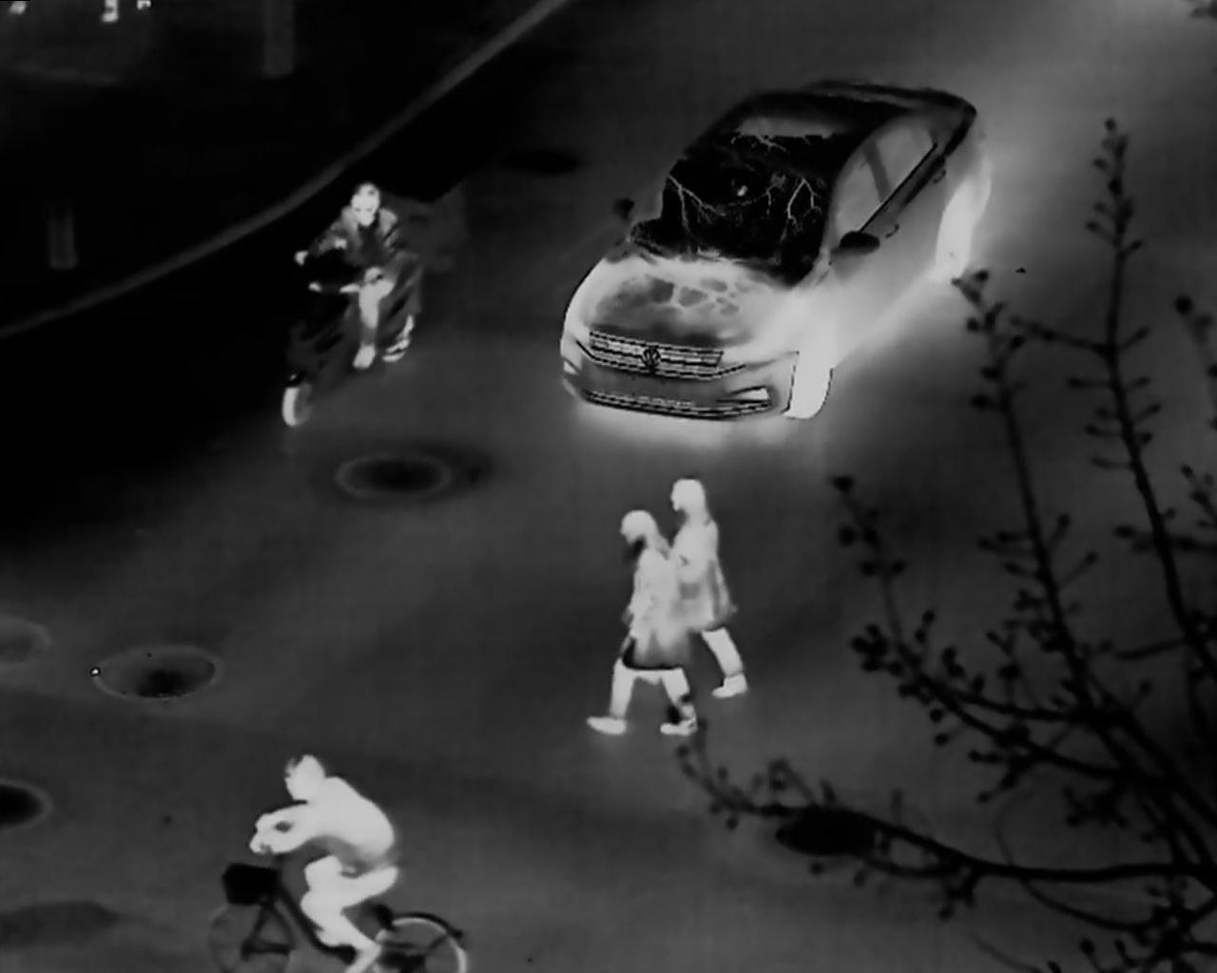person: (245, 754, 400, 973), (579, 505, 701, 737), (290, 180, 410, 375), (667, 477, 748, 703)
